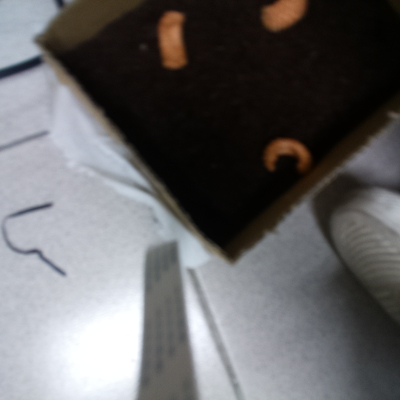eggs: (257, 132, 315, 182), (152, 6, 193, 75), (256, 1, 314, 37)
